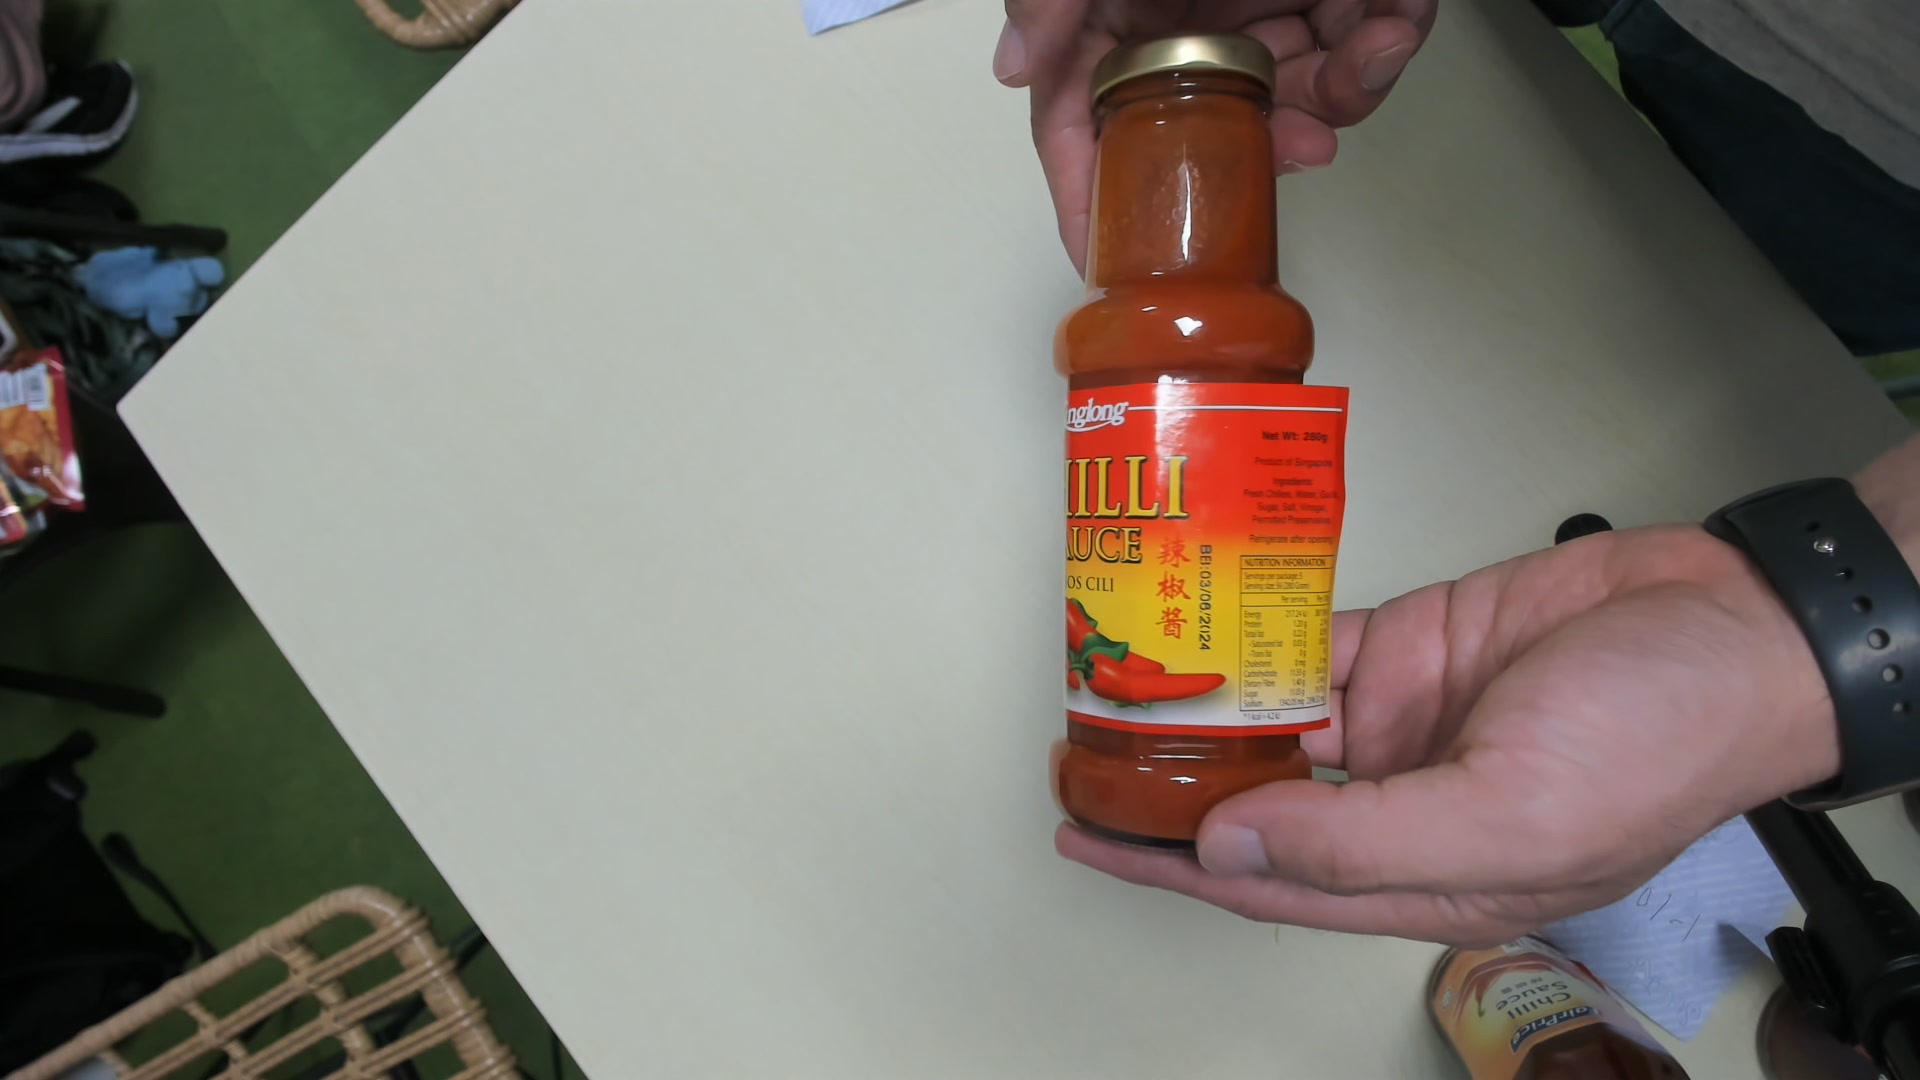KetchupChillSauce_200-299g_Halal_NonHealthy: (1048, 30, 1323, 847)
